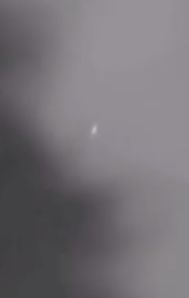Target: (83, 119, 105, 141)
